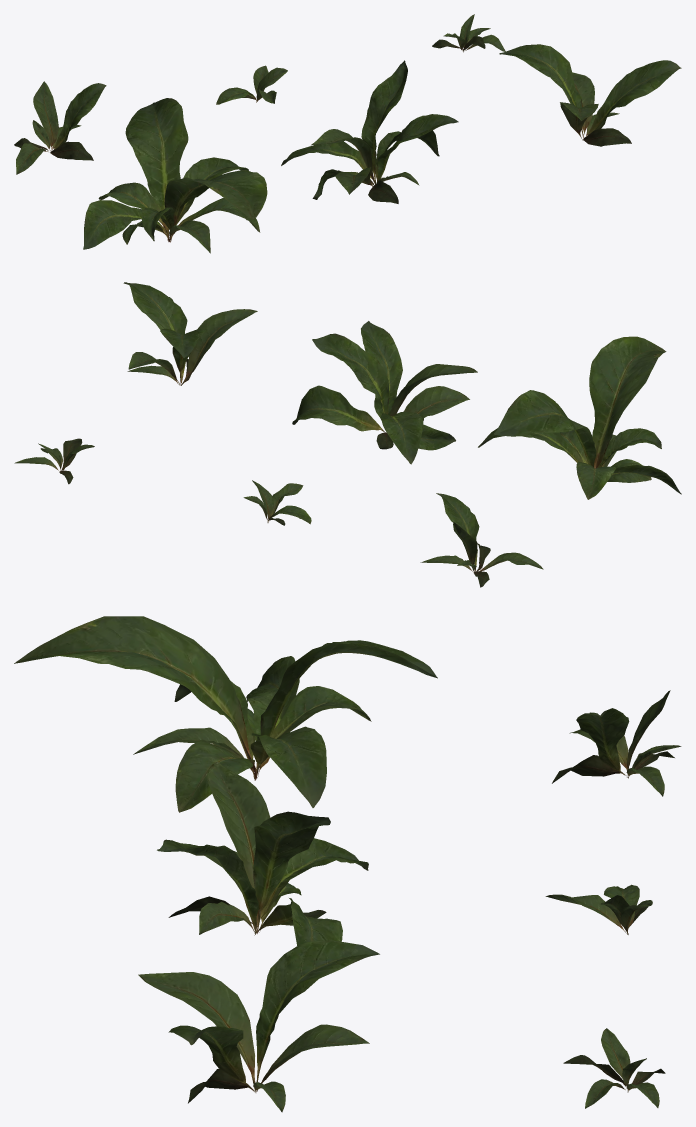
The model's file is anthurium.glb.
The picture shows the model from 3 angles, top to bottom: view 1: azimuth 30°, elevation 25°; view 2: azimuth 150°, elevation 25°; view 3: azimuth 270°, elevation 25°; orthographic projection. The views are drawn at different scales.
Visible parts, largest first — view 1: anthurium_botany_01_a; view 2: anthurium_botany_01_a; view 3: anthurium_botany_01_a.
Part boxes in pixels (x1,y1,x2,y2): anthurium_botany_01_a: (14,14,681,253); anthurium_botany_01_a: (14,282,681,587); anthurium_botany_01_a: (14,616,681,1112).
Size of the model in its own units: 2.8 by 0.498 by 1.8.
Materials: 1 (1 with a texture image).
